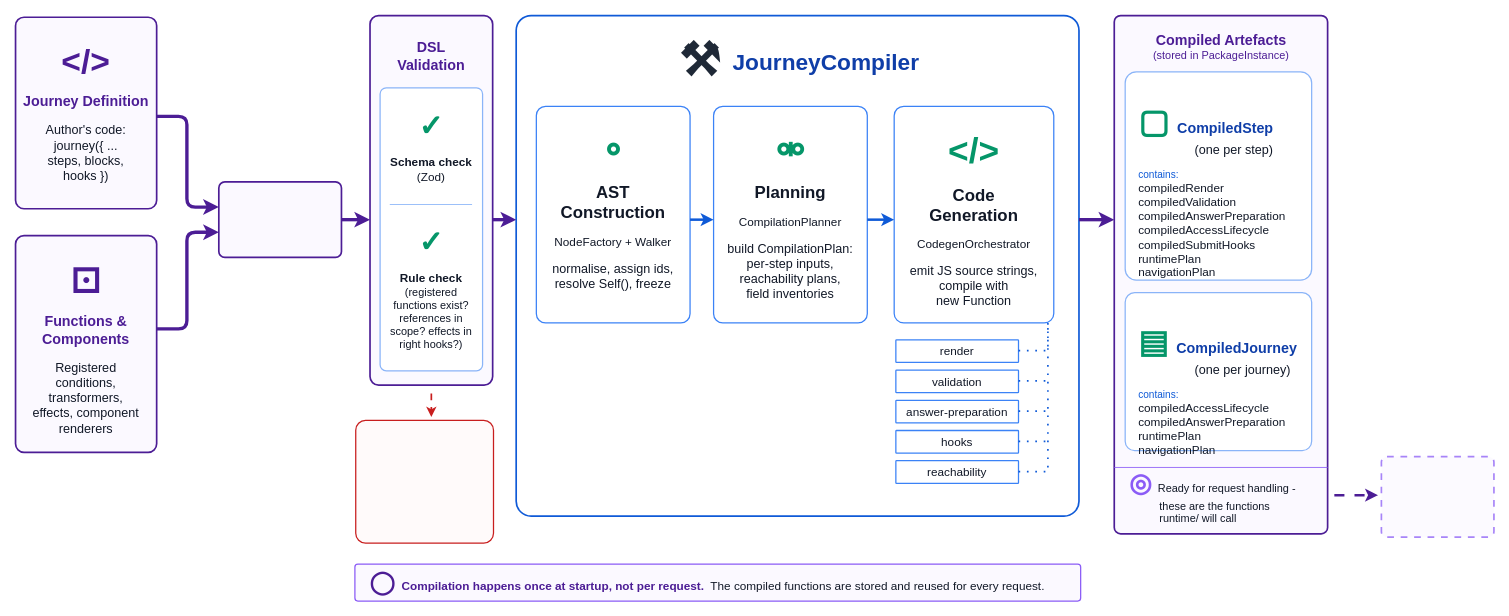
The diagram is 1509 pixels wide and 616 high, and some of its shapes have lost their labels. The centre of each missing label's shape, as x and y in pixels:
"□ PackageInstance" belongs at pixel 280 219.
"♲ ForgeRouter" belongs at pixel 1437 496.
"✕ Configuration Error Journey never compiles" belongs at pixel 424 481.
